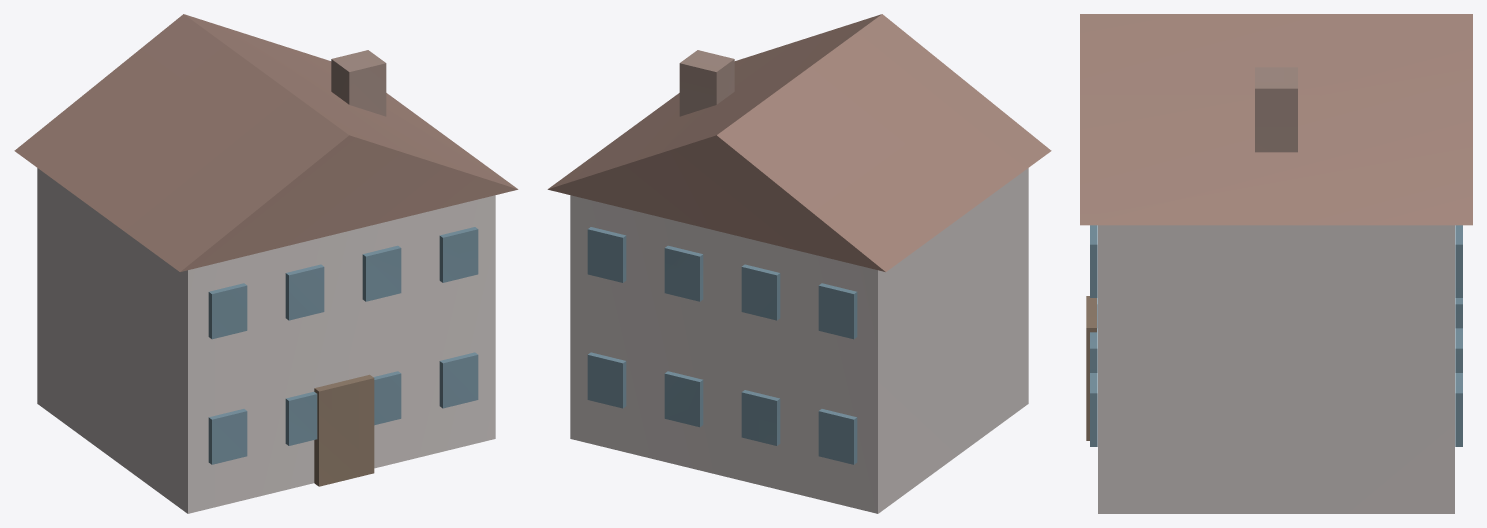
The model's file is chalet-05.glb.
3 views of the same model, side by side, from view 1: azimuth 30°, elevation 25°; view 2: azimuth 150°, elevation 25°; view 3: azimuth 270°, elevation 25° (orthographic). The views are drawn at different scales.
Parts seen in each view (by area): view 1: world; view 2: world; view 3: world.
Boxes of the visible parts, <box> form: world: <box>14,14,518,513</box>; world: <box>547,14,1051,513</box>; world: <box>1080,14,1472,513</box>.
Bounding box in the file's own units: 1.49 × 1.46 × 1.26.
